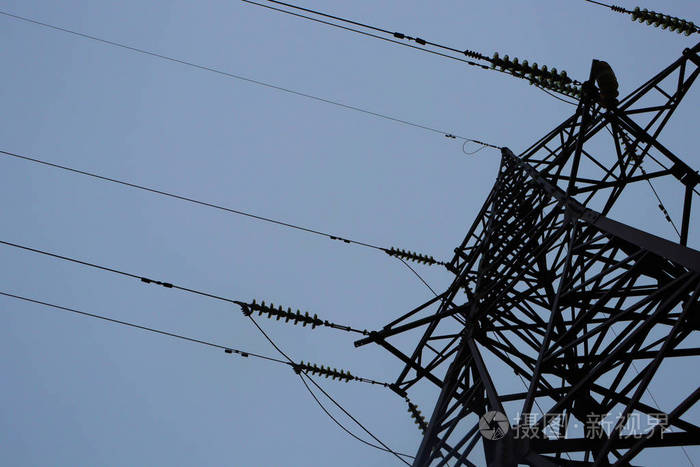insulator: (489, 51, 569, 86), (247, 297, 318, 331), (628, 5, 696, 37), (298, 360, 352, 384), (388, 247, 433, 268), (406, 405, 426, 433)
